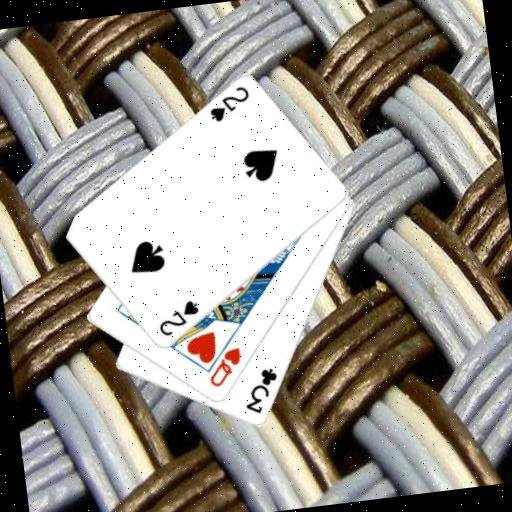2S: (153, 297, 203, 340), (203, 82, 253, 125)
3C: (238, 365, 284, 419)
QH: (203, 344, 246, 390)
